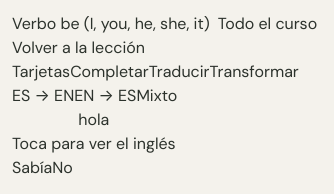
Scenario: StudyPracticeDesk › highlights the wrong choice and the solution after an incorrect answer
Click the button "Completar".
click(109, 72)  # box [70,60,149,84]
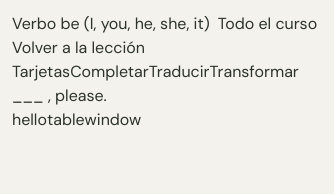
Click the button "table".
click(66, 120)  # box [47,108,85,132]
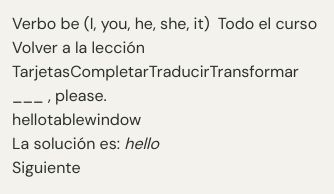
Check: the text "hello" is shown, box [124,133,159,154]
